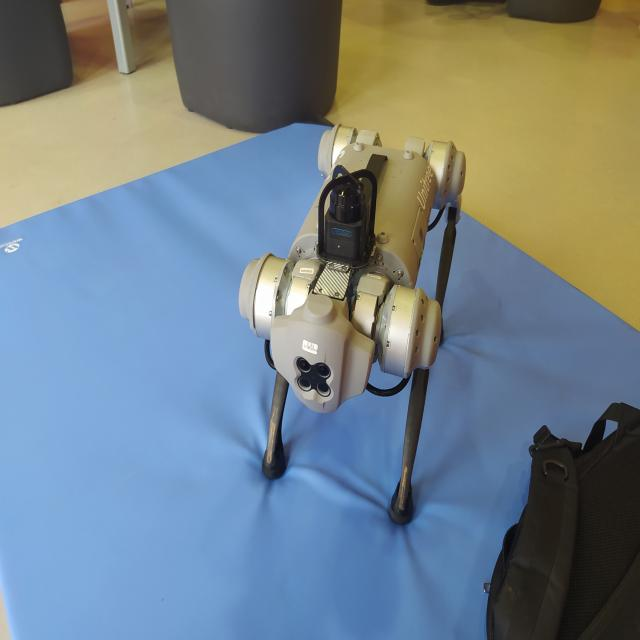unitree-go1-robot: (240, 125, 468, 534)
